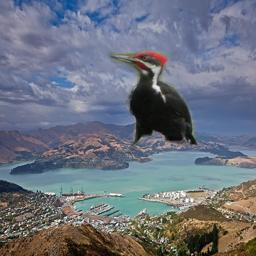Woodpecker: (109, 45, 199, 153)
